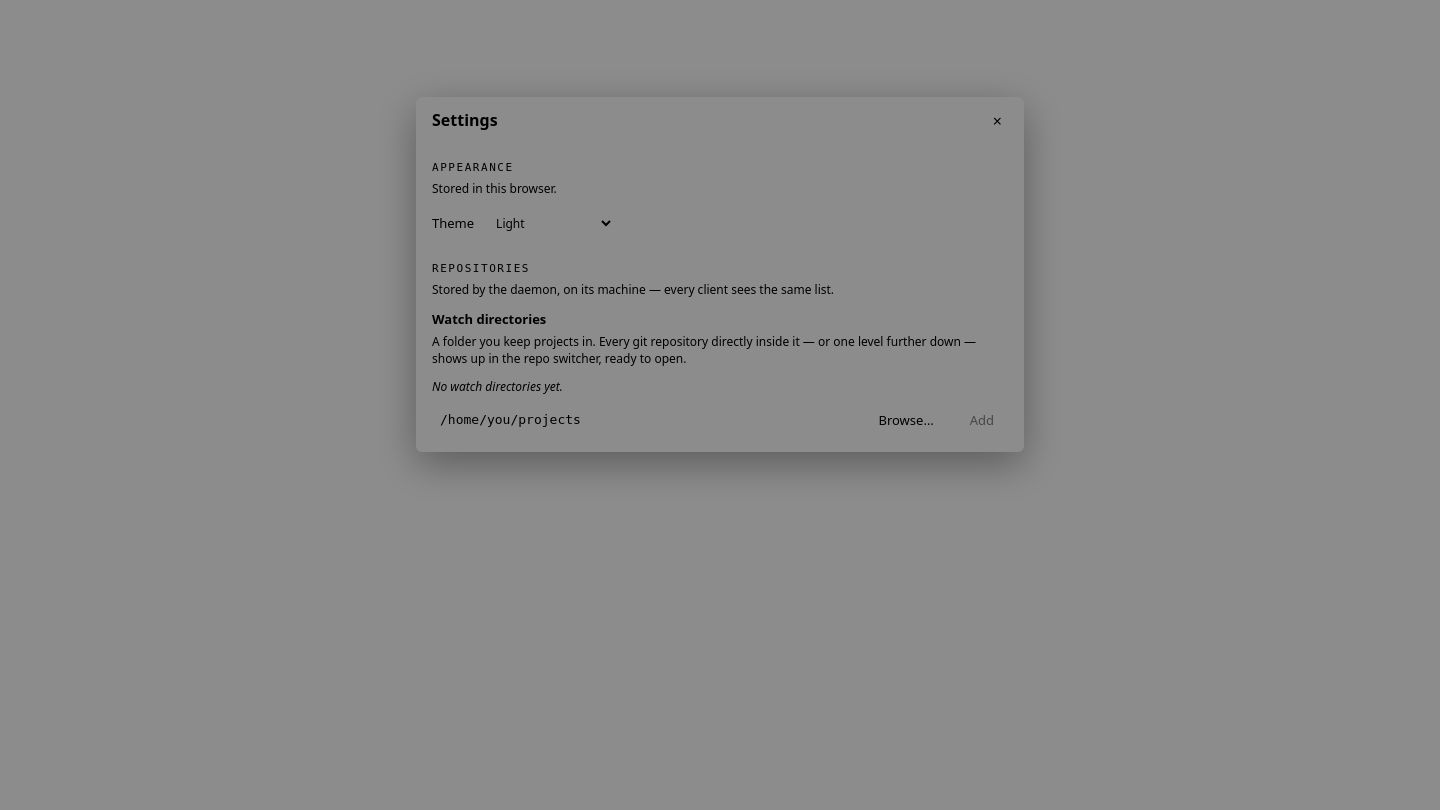
browsing for a directory › a refused pick keeps the picker open with the reason
Click the button with test id "settings-browse".
click(906, 420)  # box [864,405,948,436]
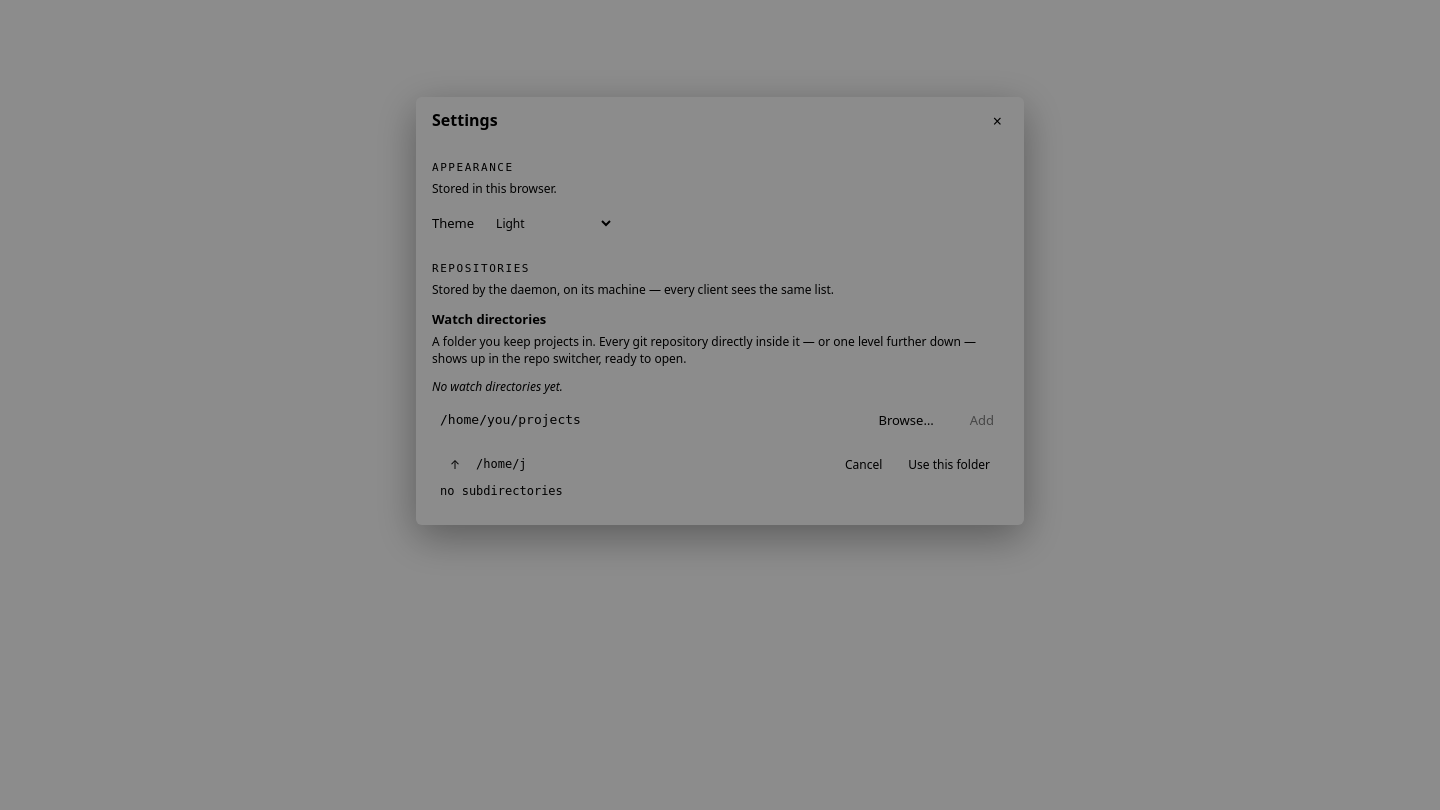
Click the button with class "use".
click(949, 465)  # box [898,452,1000,477]
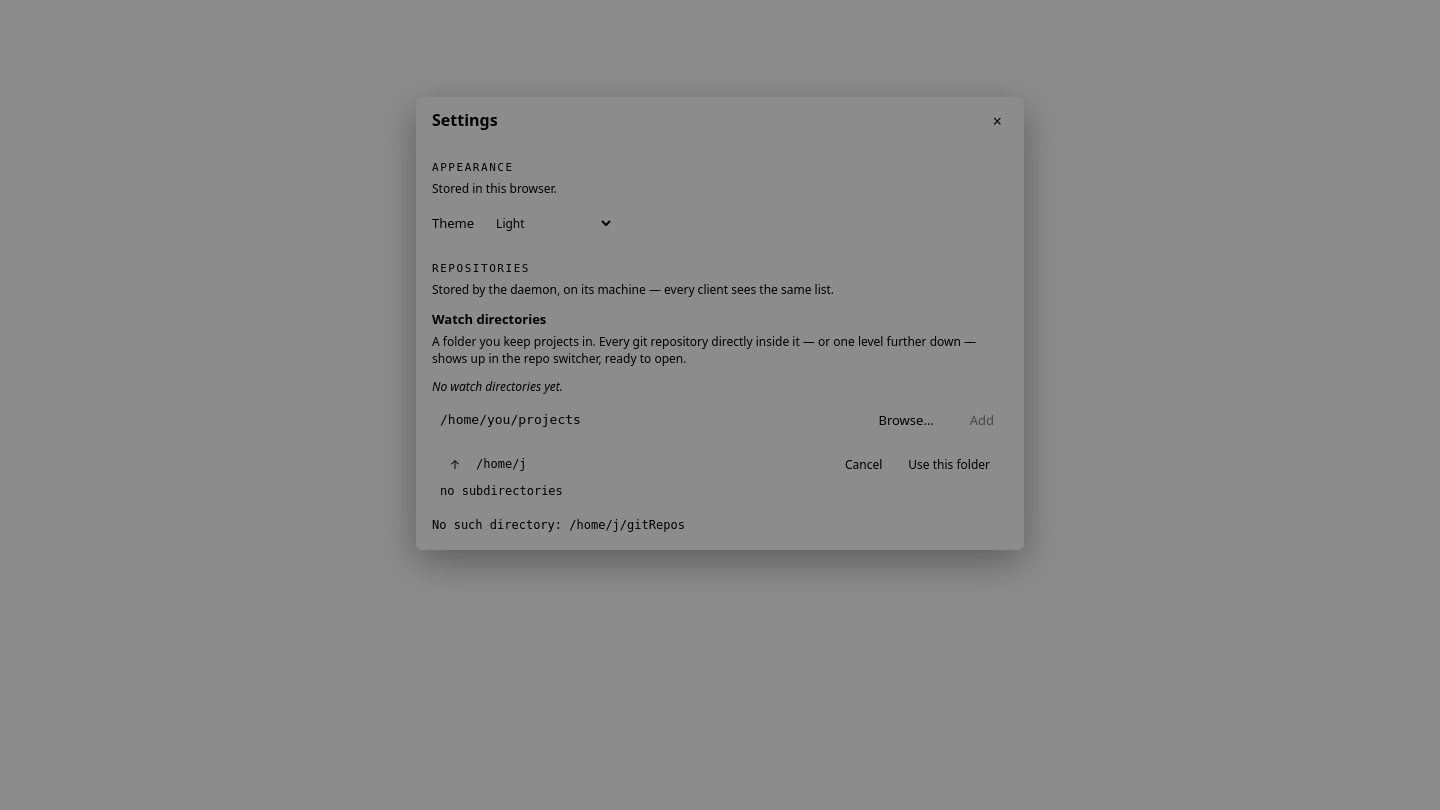
Now the element with test id "directory-picker" is shown, box [432,444,1008,509]
Now the text with test id "settings-error" shows "No such directory", box [432,518,685,532]
